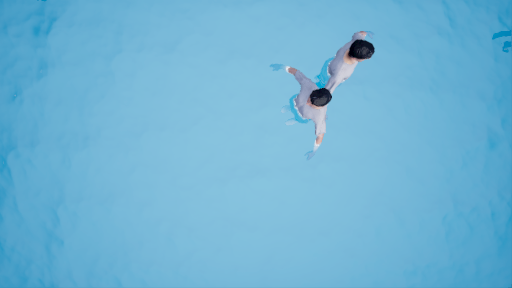person: (270, 65, 345, 156), (314, 22, 377, 120)
